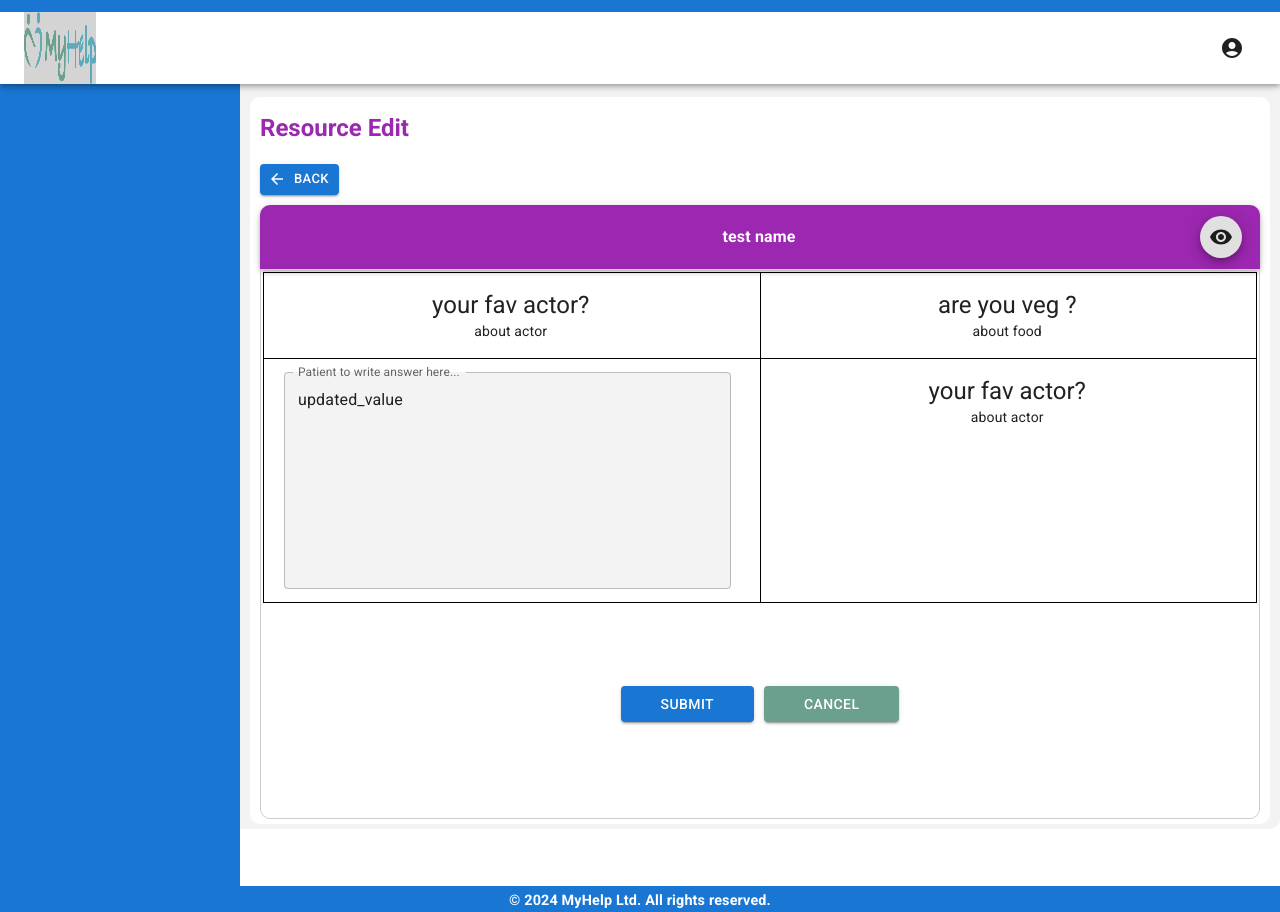
Test: Patient view template page › should render submit exception
Click the button with test id "tableTemplateSubmit".
click(687, 704)  # box [621,686,754,722]
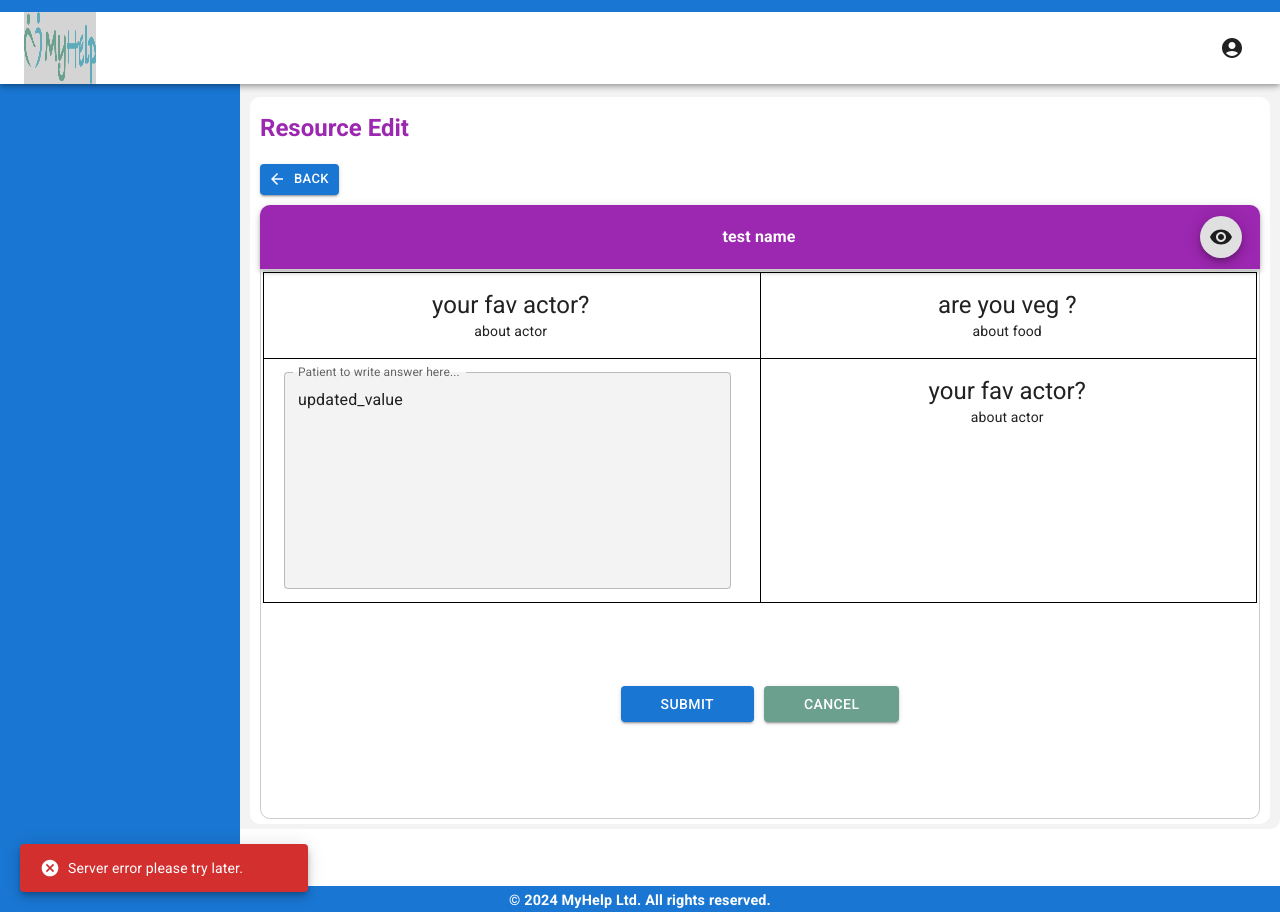
Check: the text "Server error please try later." is shown once, box [40,858,243,878]
